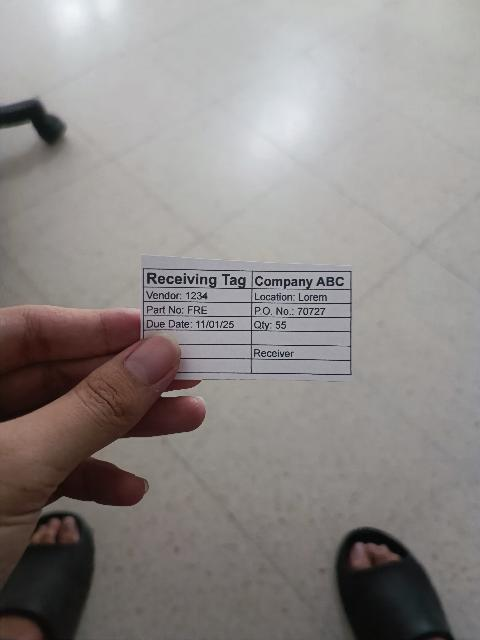PO no: (251, 303, 351, 318)
part no: (144, 302, 252, 317)
qty: (251, 317, 351, 331)
tags: (141, 256, 352, 380)
